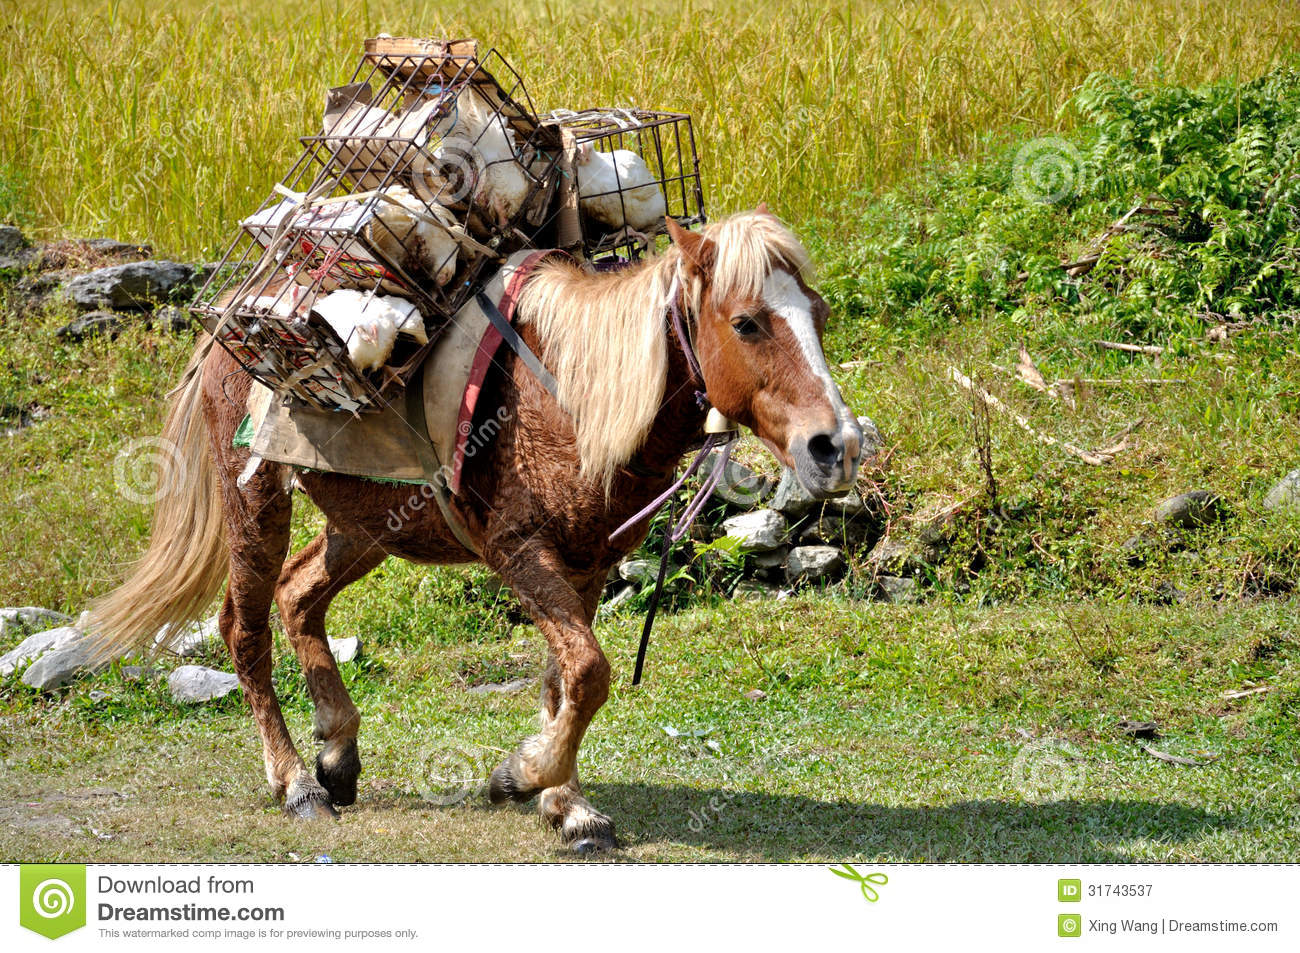equine: (55, 205, 867, 845)
